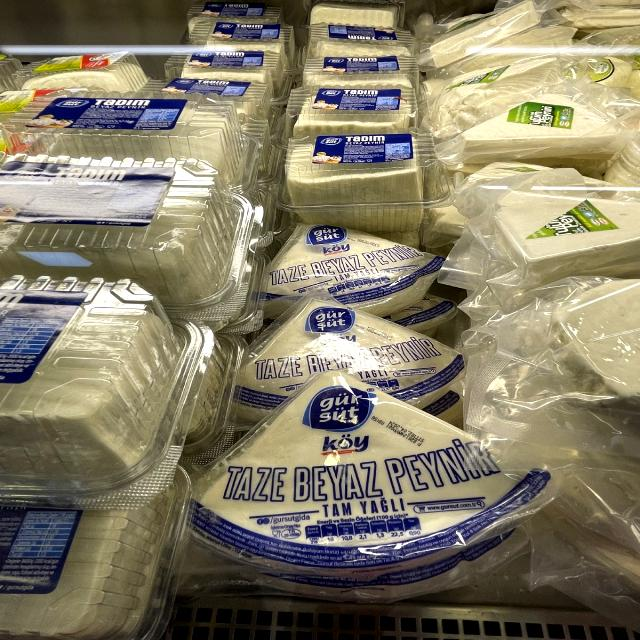cheese: (202, 390, 530, 570), (0, 305, 192, 475), (237, 299, 456, 395), (279, 136, 437, 220), (264, 225, 431, 301)
